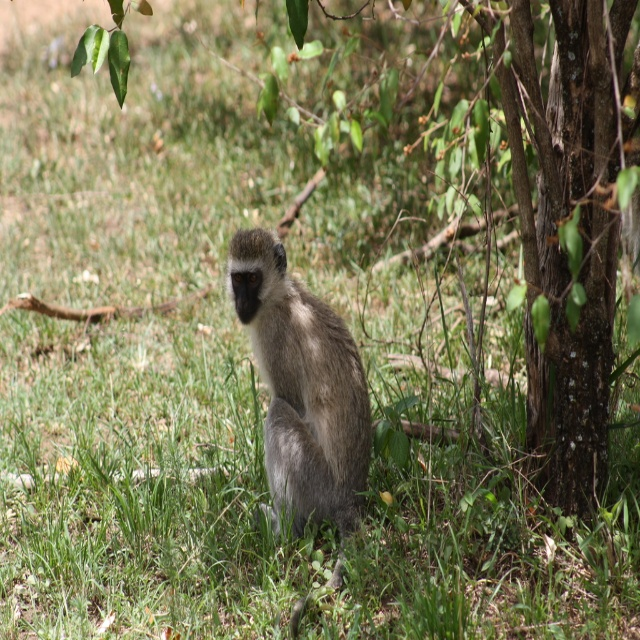Monkey: (228, 228, 371, 639)
